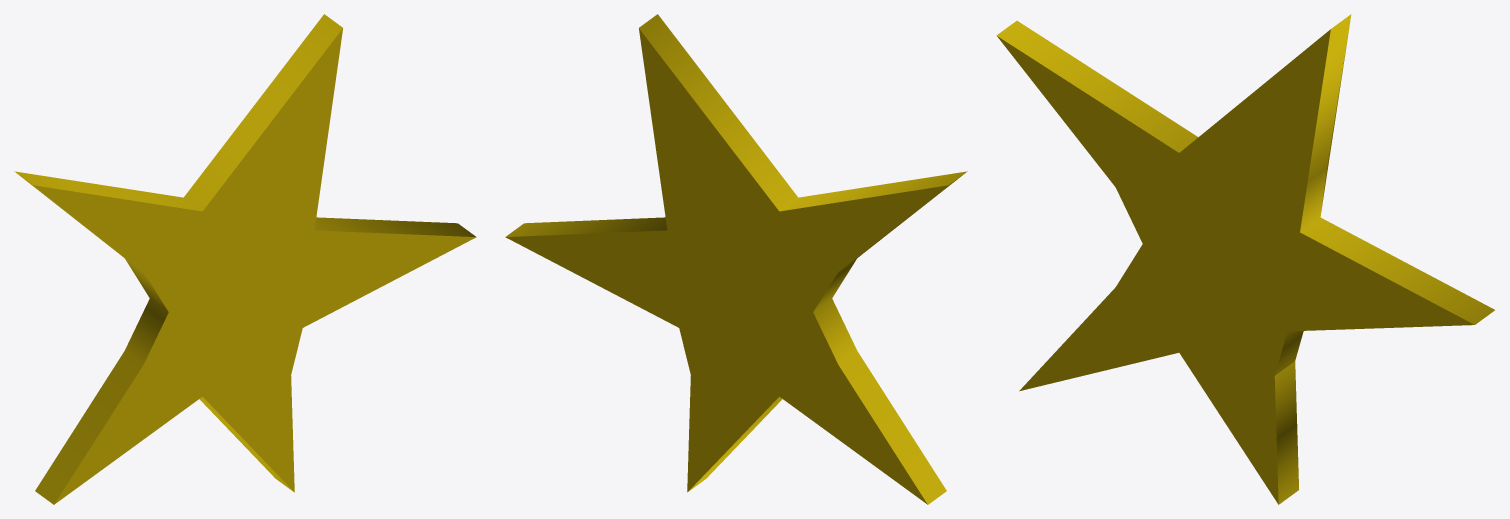
The model's file is Star.FBX.
3 renders of one model, left to right at view 1: azimuth 30°, elevation 25°; view 2: azimuth 150°, elevation 25°; view 3: azimuth 330°, elevation 25°, orthographic. The views are drawn at different scales.
Parts seen in each view (by area): view 1: Box001; view 2: Box001; view 3: Box001.
Boxes of the visible parts, bbox=[...] form: Box001: bbox=[14, 14, 476, 504]; Box001: bbox=[505, 14, 967, 504]; Box001: bbox=[996, 14, 1494, 504].
Size of the model in its own units: 2.51 by 0.1861 by 2.45.
